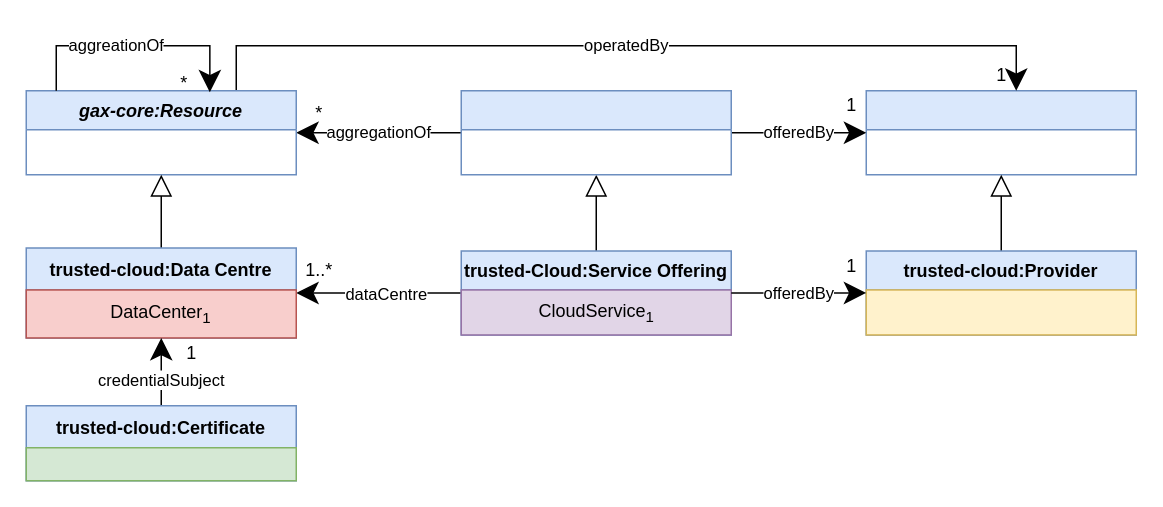
This 1163x507 diagram has some shape labels left out. The centre of each missing label's shape, as x and y in pixels:
"ACME" goes at point (1000, 311).
"gax-core:Participant" goes at point (1000, 132).
"gax-core:ServiceOffering" goes at point (595, 132).
"ISO 27001" goes at point (160, 463).
